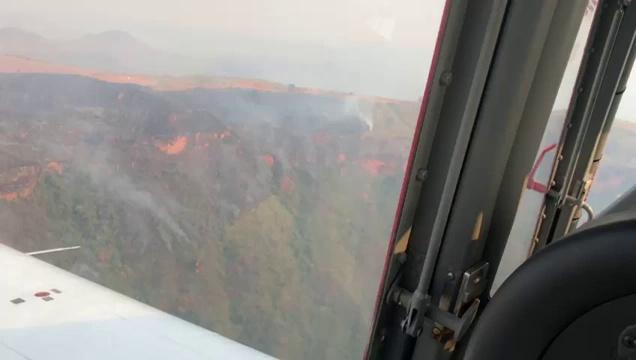smoke: (229, 97, 352, 134)
